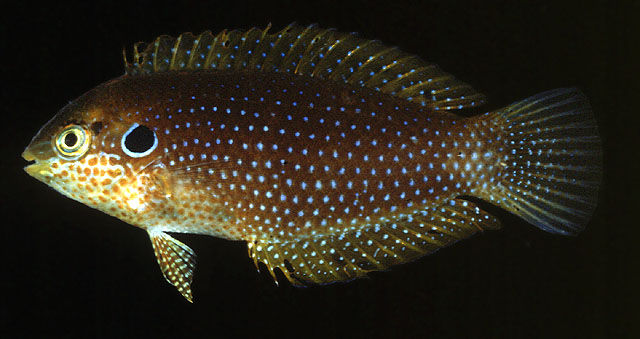fish: (20, 22, 603, 304)
